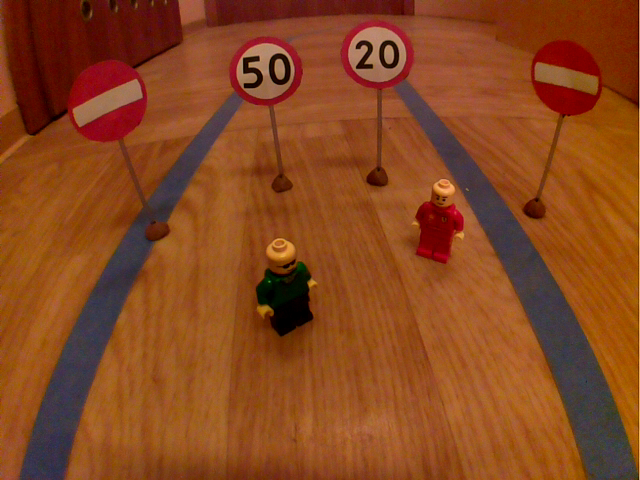Ograniczenie 20: (338, 18, 418, 92)
Ograniczenie 50: (226, 32, 306, 111)
Postac LEGO: (250, 230, 322, 343), (409, 177, 469, 268)
Zakaz: (63, 56, 152, 147), (527, 35, 606, 122)
